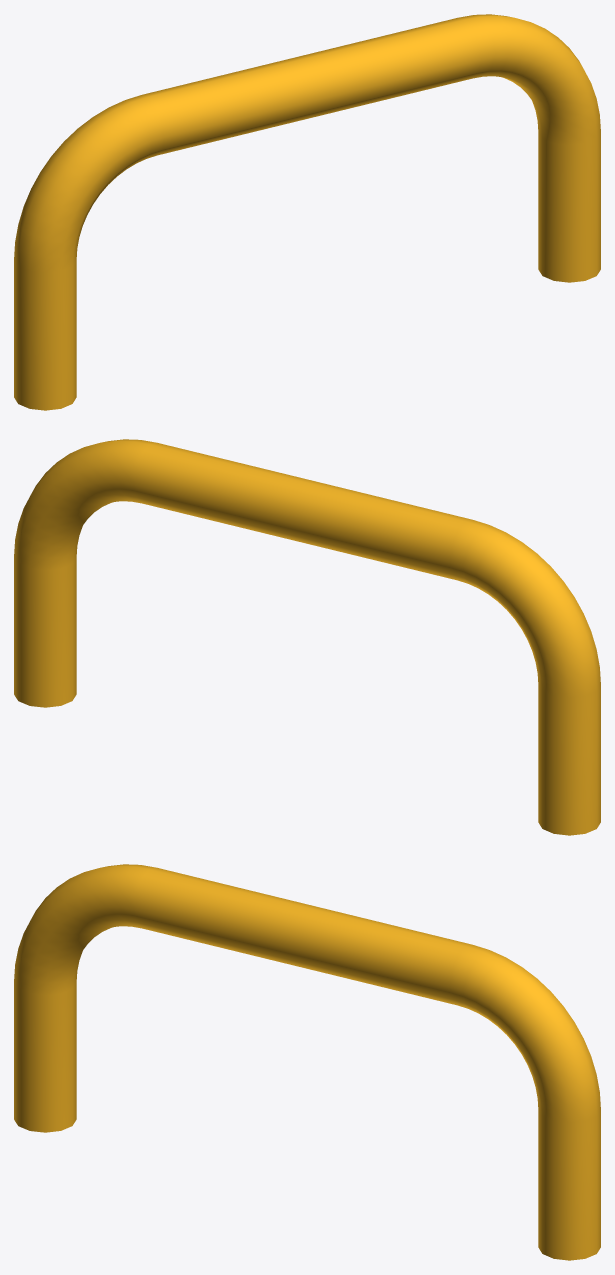
The model's file is gateSmallWide_teamYellow-col.glb.
3 renders of one model, top to bottom at view 1: azimuth 30°, elevation 25°; view 2: azimuth 150°, elevation 25°; view 3: azimuth 330°, elevation 25°, orthographic.
Visible parts, largest first — view 1: gateSmallWide_teamYellow-col; view 2: gateSmallWide_teamYellow-col; view 3: gateSmallWide_teamYellow-col.
Boxes of the visible parts, box(x1,y1,x2,y2) form: gateSmallWide_teamYellow-col: box(14, 14, 600, 410); gateSmallWide_teamYellow-col: box(14, 439, 600, 835); gateSmallWide_teamYellow-col: box(14, 864, 600, 1260).
Size of the model in its own units: 4.4 by 2 by 0.4126.
